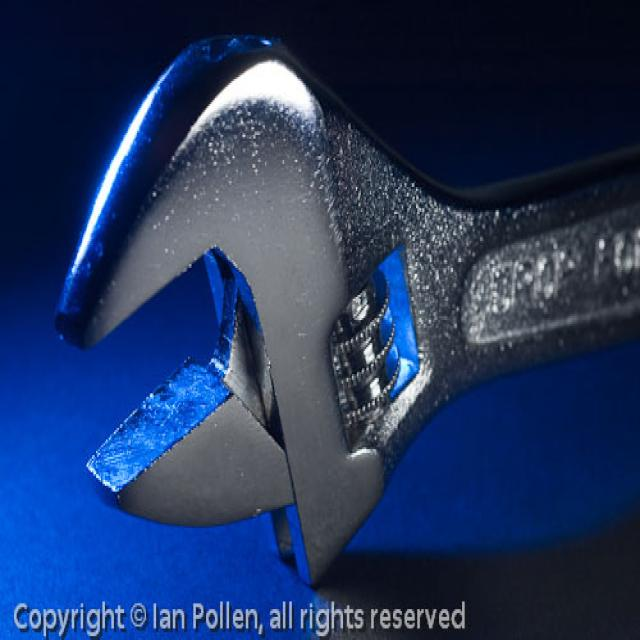wrench: (56, 11, 640, 572)
